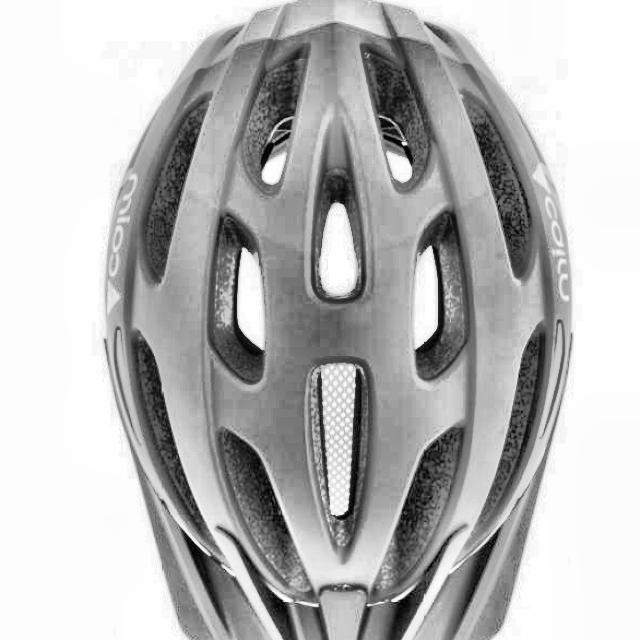Helmet: (97, 0, 582, 640)
